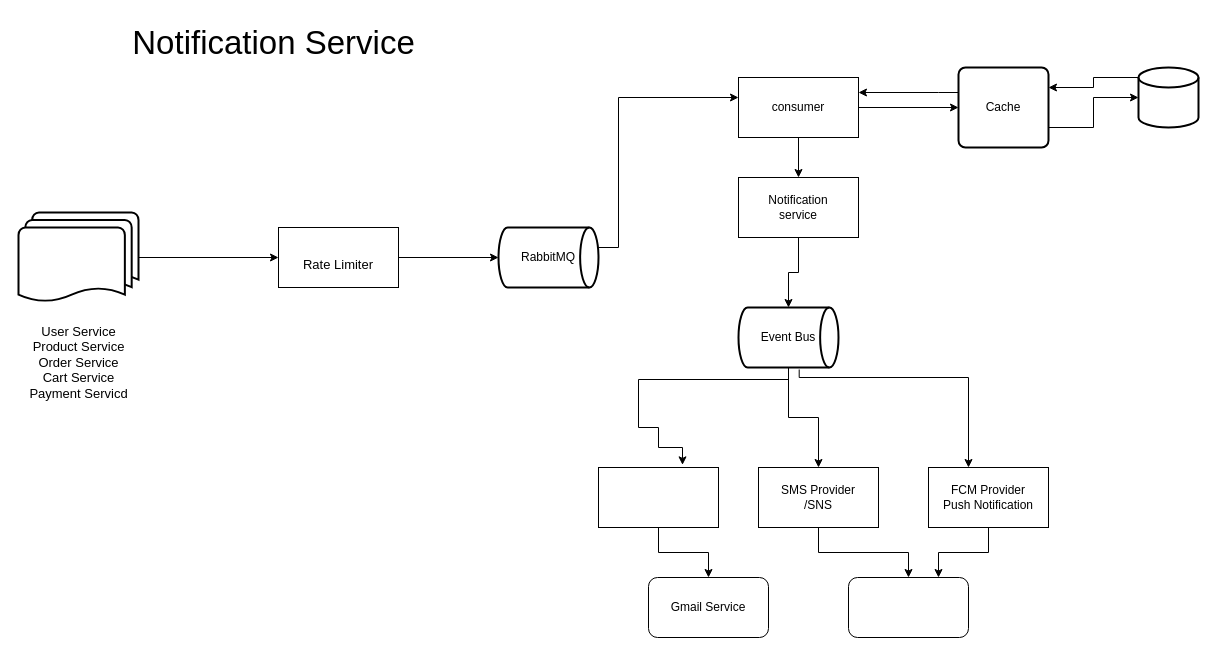
Image size: 1216x655. Some labels were removed from this diagram. The shapes that lost their labels are listed below. From the top down, each one's centre as x and y in pixels, then its label:
At point (1168, 97): "MongoDB".
At point (78, 257): "publisher (All MicroService)".
At point (658, 497): "Email Provider".
At point (908, 607): "Mobile Service".
